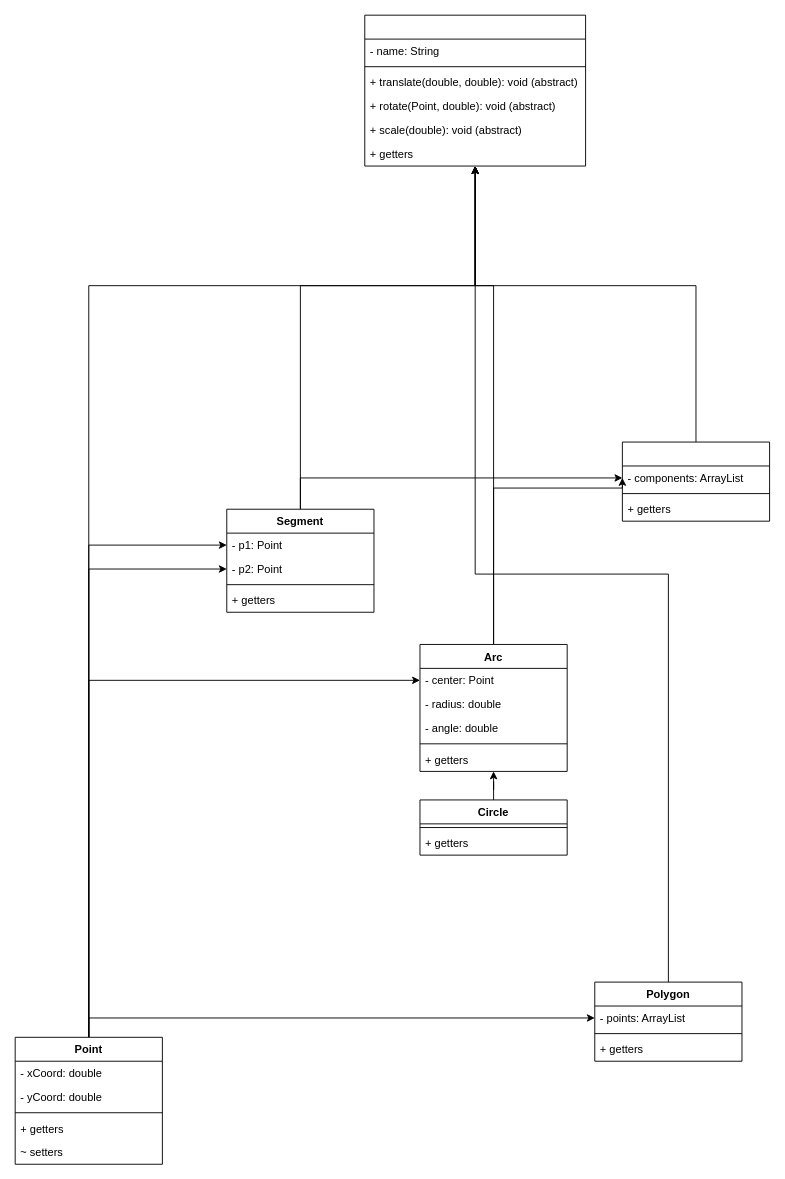
The diagram is 785 pixels wide and 1179 high, and some of its shapes have lost their labels. The box of each missing label's shape, as (x1, y1, x2, y2) in pixels:
Polyline: (621, 441, 770, 521)
Primitive (abstract): (364, 14, 586, 166)
